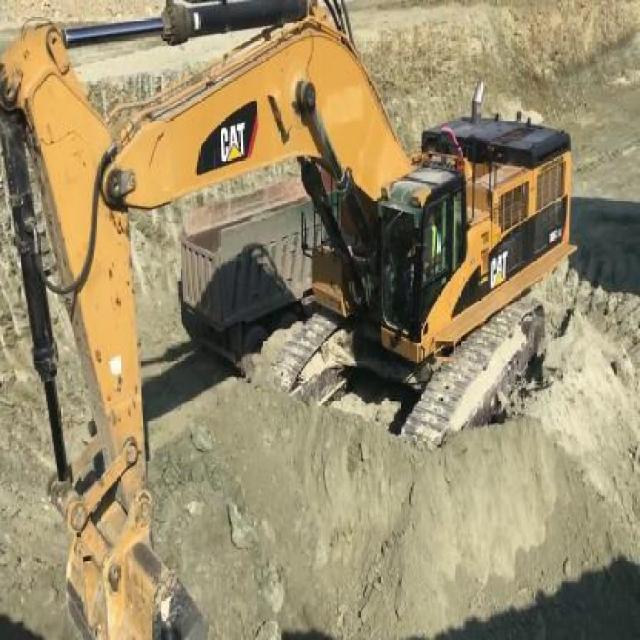Dump Truck: (172, 193, 322, 365)
Excavator: (0, 0, 582, 640)
